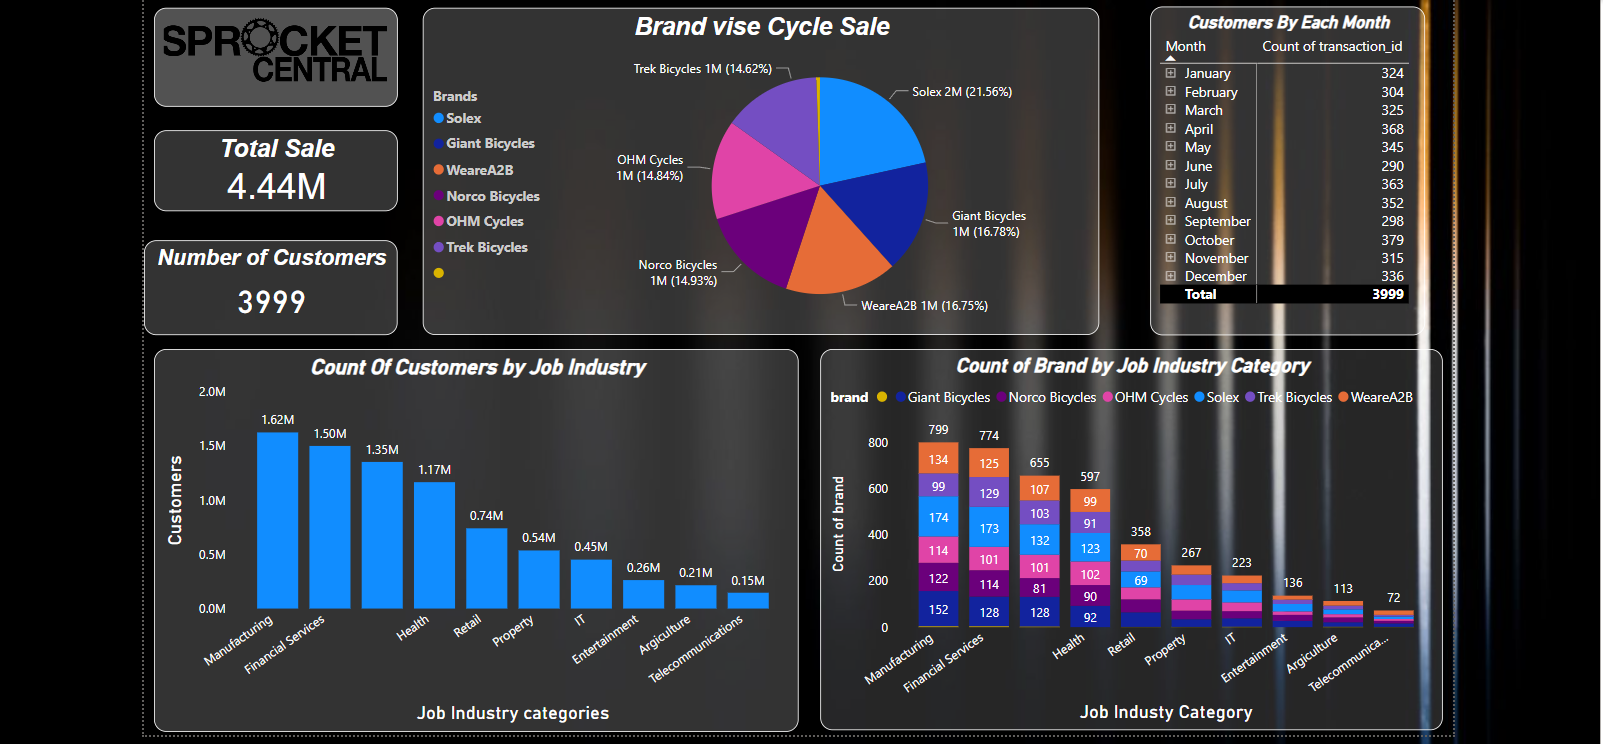

The page's visual inventory and layout, read from the dashboard file:
{"tool":"powerbi","page":{"name":"Sales Report 1","canvas":[1280,720],"ordinal":0},"visuals":[{"type":"columnChart","title":"Count Of Customers by Job Industry","fields":{"Category":["Combine.job_industry_category"],"Y":["Sum(Combine.Column1)"]},"box":[9.8,342.3,630.8,374.1],"z":0},{"type":"pieChart","title":"Brand vise Cycle Sale","fields":{"Y":["Sum(Combine.Column1)"],"Category":["Combine.brand"]},"box":[272.6,8.6,661.3,320.3],"z":1000},{"type":"image","box":[9.8,8.6,238.4,96.6],"z":2000},{"type":"pivotTable","title":"Customers By Each Month","fields":{"Rows":["Combine.transaction_date.Variation.Date Hierarchy.Month","Combine.transaction_date.Variation.Date Hierarchy.Day"],"Values":["CountNonNull(Combine.transaction_id)"]},"box":[984,7.3,268.9,321.5],"z":3000},{"type":"card","title":"Number of Customers","fields":{"Values":["CountNonNull(Combine.transaction_id)"]},"box":[0,235.9,248.1,92.9],"z":4000},{"type":"card","title":"Total Sale ","fields":{"Values":["Sum(Combine.list_price)"]},"box":[9.8,128.4,238.4,79.5],"z":5000},{"type":"columnChart","title":"Count of Brand by Job Industry Category","fields":{"Category":["Combine.job_industry_category"],"Y":["CountNonNull(Combine.brand)"],"Series":["Combine.brand"]},"box":[661.3,342.3,608.8,372.8],"z":6000}]}

Visuals, with their boxes on the page's 1280x720 design canvas (x1, y1, x2, y2). These are canvas units, not pixel positions in the 1603x744 screenshot, which may show the page scaled, cropped or inside an application window:
"Count Of Customers by Job Industry" columnChart: [left=10, top=342, right=641, bottom=716]
"Brand vise Cycle Sale" pieChart: [left=273, top=9, right=934, bottom=329]
image: [left=10, top=9, right=248, bottom=105]
"Customers By Each Month" pivotTable: [left=984, top=7, right=1253, bottom=329]
"Number of Customers" card: [left=0, top=236, right=248, bottom=329]
"Total Sale " card: [left=10, top=128, right=248, bottom=208]
"Count of Brand by Job Industry Category" columnChart: [left=661, top=342, right=1270, bottom=715]
